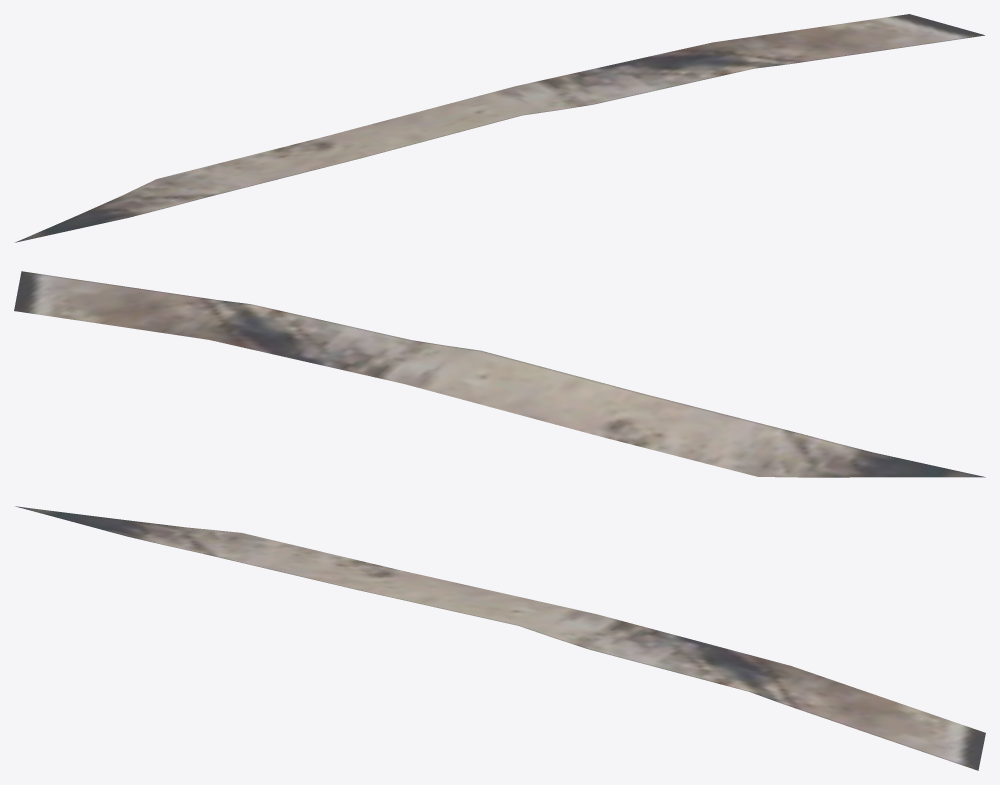
The model's file is CM_Terrain_24488001_6822865.fbx.
3 renders of one model, top to bottom at view 1: azimuth 30°, elevation 25°; view 2: azimuth 150°, elevation 25°; view 3: azimuth 330°, elevation 25°, orthographic.
Parts seen in each view (by area): view 1: CM_Terrain_24488001_6822865_LOD0; view 2: CM_Terrain_24488001_6822865_LOD0; view 3: CM_Terrain_24488001_6822865_LOD0.
Boxes of the visible parts, <box> form: CM_Terrain_24488001_6822865_LOD0: <box>15,14,984,242</box>; CM_Terrain_24488001_6822865_LOD0: <box>14,271,985,477</box>; CM_Terrain_24488001_6822865_LOD0: <box>15,506,985,770</box>.
Size of what is drawn, in the model's own units: 35.38 by 1.18 by 2.74.
